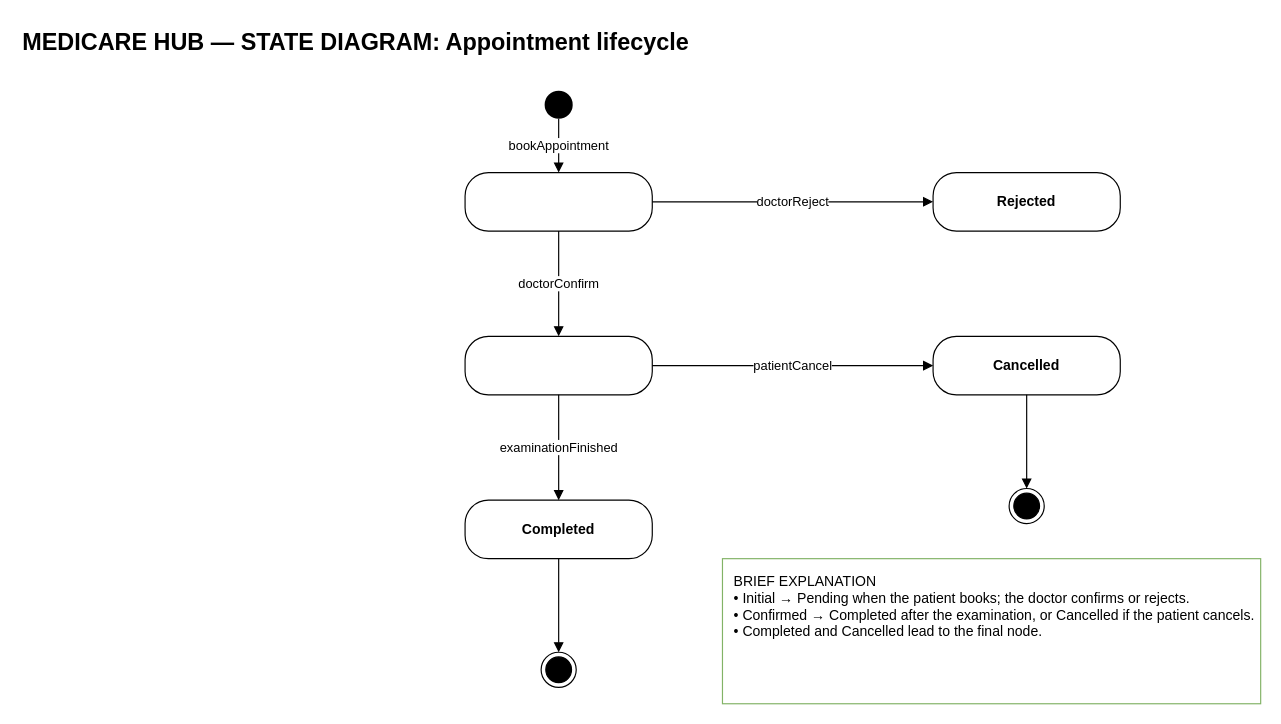
The diagram is 1281 pixels wide and 724 high, and some of its shapes have lost their labels. The centre of each missing label's shape, as x and y in pixels:
"Confirmed" belongs at [558,365].
"Pending" belongs at [558,201].
